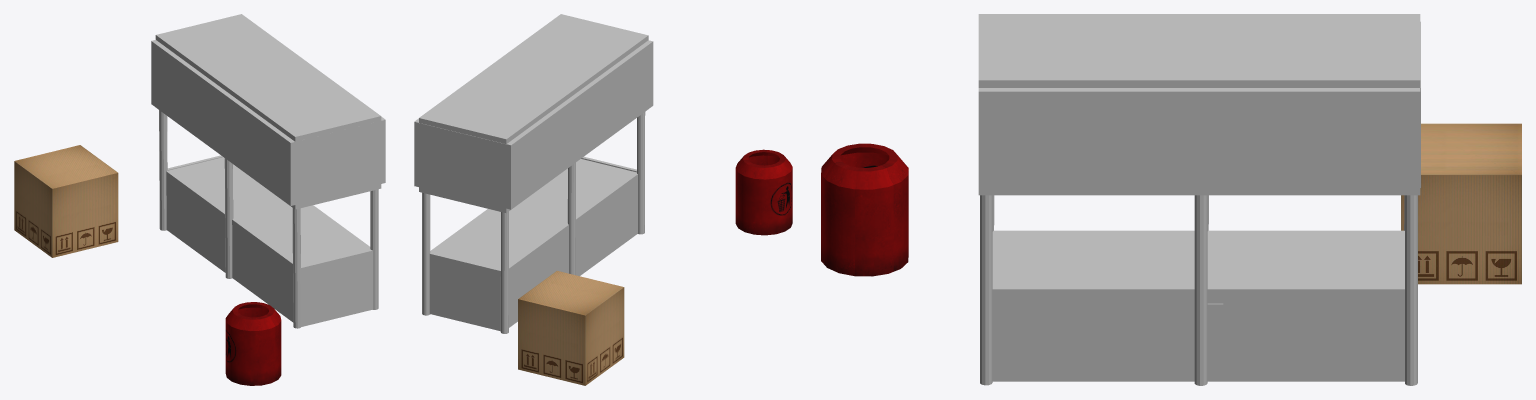
Rendered from shop.fbx.
3 views of the same model, side by side, from view 1: azimuth 30°, elevation 25°; view 2: azimuth 150°, elevation 25°; view 3: azimuth 270°, elevation 25° (orthographic). The views are drawn at different scales.
Parts seen in each view (by area): view 1: polySurface63, pCube1, pCylinder1; view 2: polySurface63, pCube1, pCylinder1; view 3: polySurface63, pCube1, pCylinder1.
Part boxes in pixels (x1,y1,x2,y2): polySurface63: [151, 14, 385, 328]; pCube1: [14, 145, 118, 257]; pCylinder1: [225, 302, 281, 385]; polySurface63: [414, 14, 653, 333]; pCube1: [518, 271, 624, 385]; pCylinder1: [735, 149, 792, 235]; polySurface63: [978, 14, 1420, 385]; pCube1: [1401, 123, 1521, 284]; pCylinder1: [821, 143, 908, 276].
Bounding box in the file's own units: 12.37 × 11.42 × 23.69.
